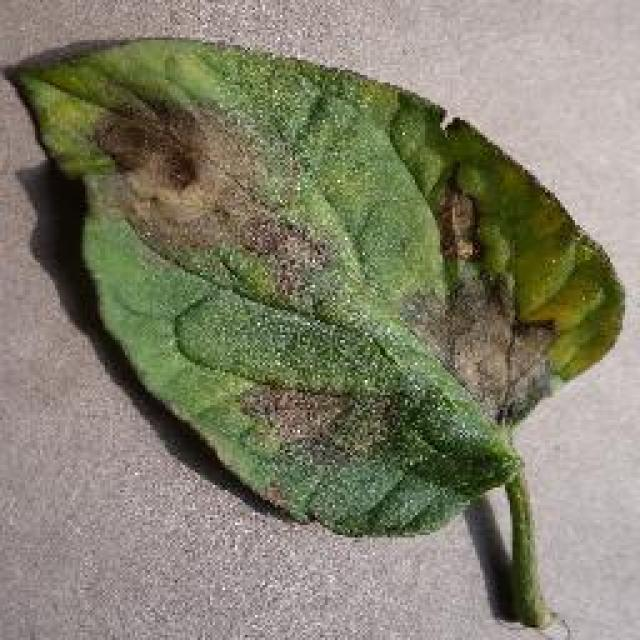Tomato Late Blight: (80, 52, 595, 520)
